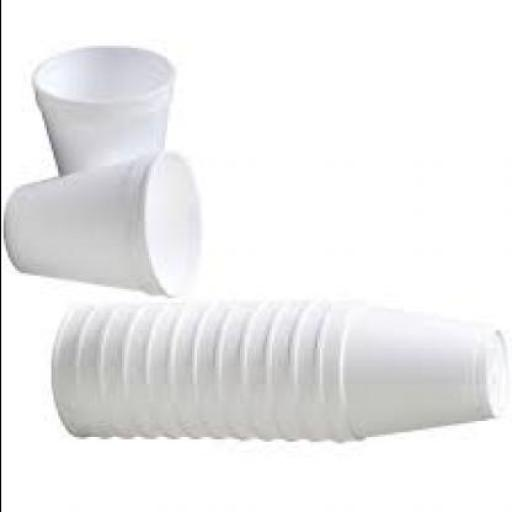paper: (52, 316, 508, 444), (2, 155, 204, 300), (316, 316, 501, 444), (34, 51, 175, 182)
